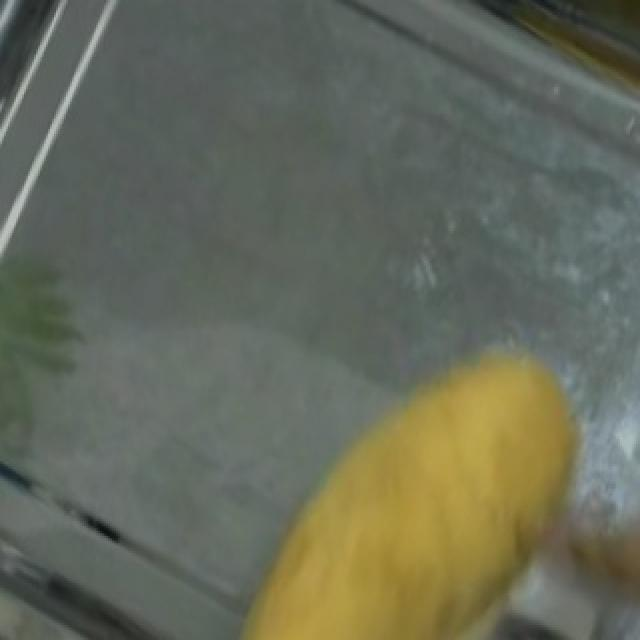fruit: (198, 278, 638, 640)
